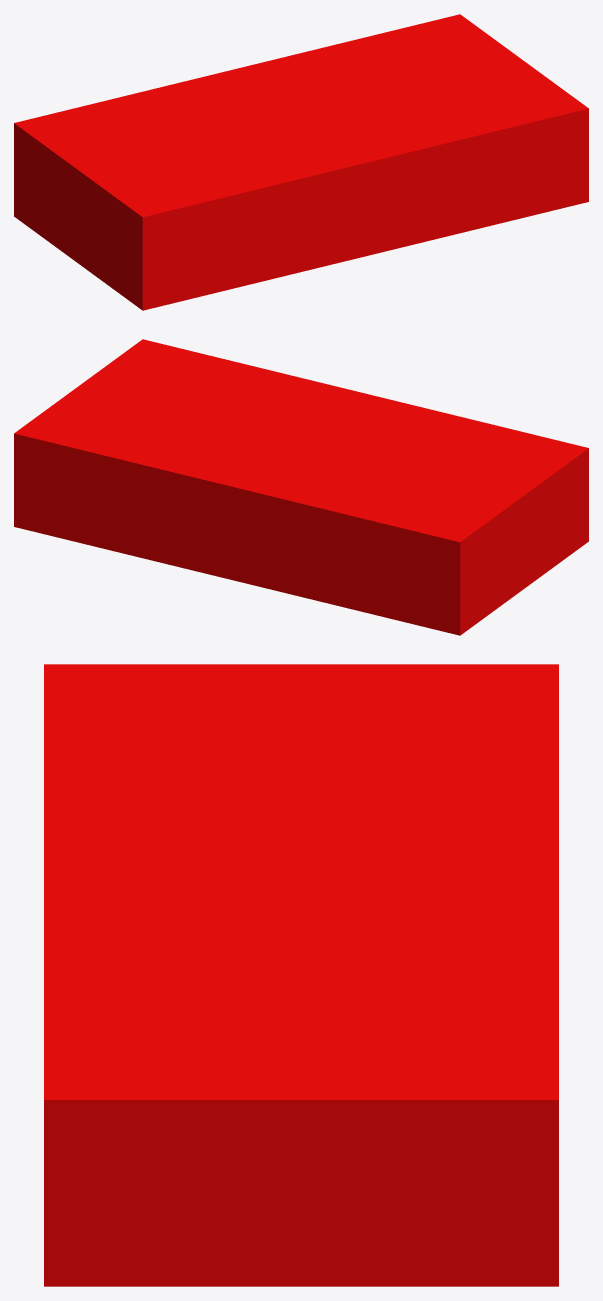
The model's file is tblid.glb.
The picture shows the model from 3 angles, top to bottom: view 1: azimuth 30°, elevation 25°; view 2: azimuth 150°, elevation 25°; view 3: azimuth 270°, elevation 25°; orthographic projection. The views are drawn at different scales.
Parts seen in each view (by area): view 1: Sketchfab_model_28; view 2: Sketchfab_model_28; view 3: Sketchfab_model_28.
Part boxes in pixels (box(x1,y1,x2,y2)): Sketchfab_model_28: box(14, 14, 588, 310); Sketchfab_model_28: box(14, 339, 588, 635); Sketchfab_model_28: box(44, 664, 558, 1286).
Bounding box in the file's own units: 0.5 × 0.1 × 0.25.
